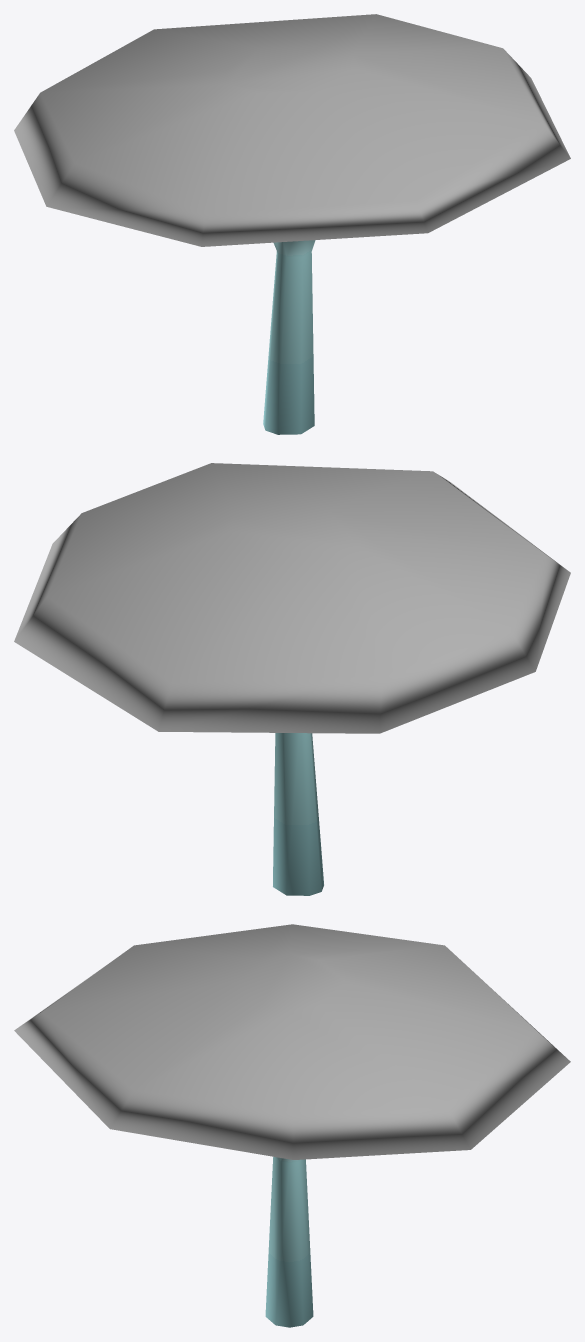
Rendered from DC_Mushroom3.fbx.
3 renders of one model, top to bottom at view 1: azimuth 30°, elevation 25°; view 2: azimuth 150°, elevation 25°; view 3: azimuth 270°, elevation 25°, orthographic. The views are drawn at different scales.
Parts seen in each view (by area): view 1: Mushroom3; view 2: Mushroom3; view 3: Mushroom3.
Part boxes in pixels (x1=…): Mushroom3: x1=14, y1=14, x2=570, y2=434; Mushroom3: x1=14, y1=463, x2=570, y2=895; Mushroom3: x1=14, y1=924, x2=570, y2=1327.
Size of the model in its own units: 0.5412 by 0.3783 by 0.5706.
2 materials, 1 textured.
